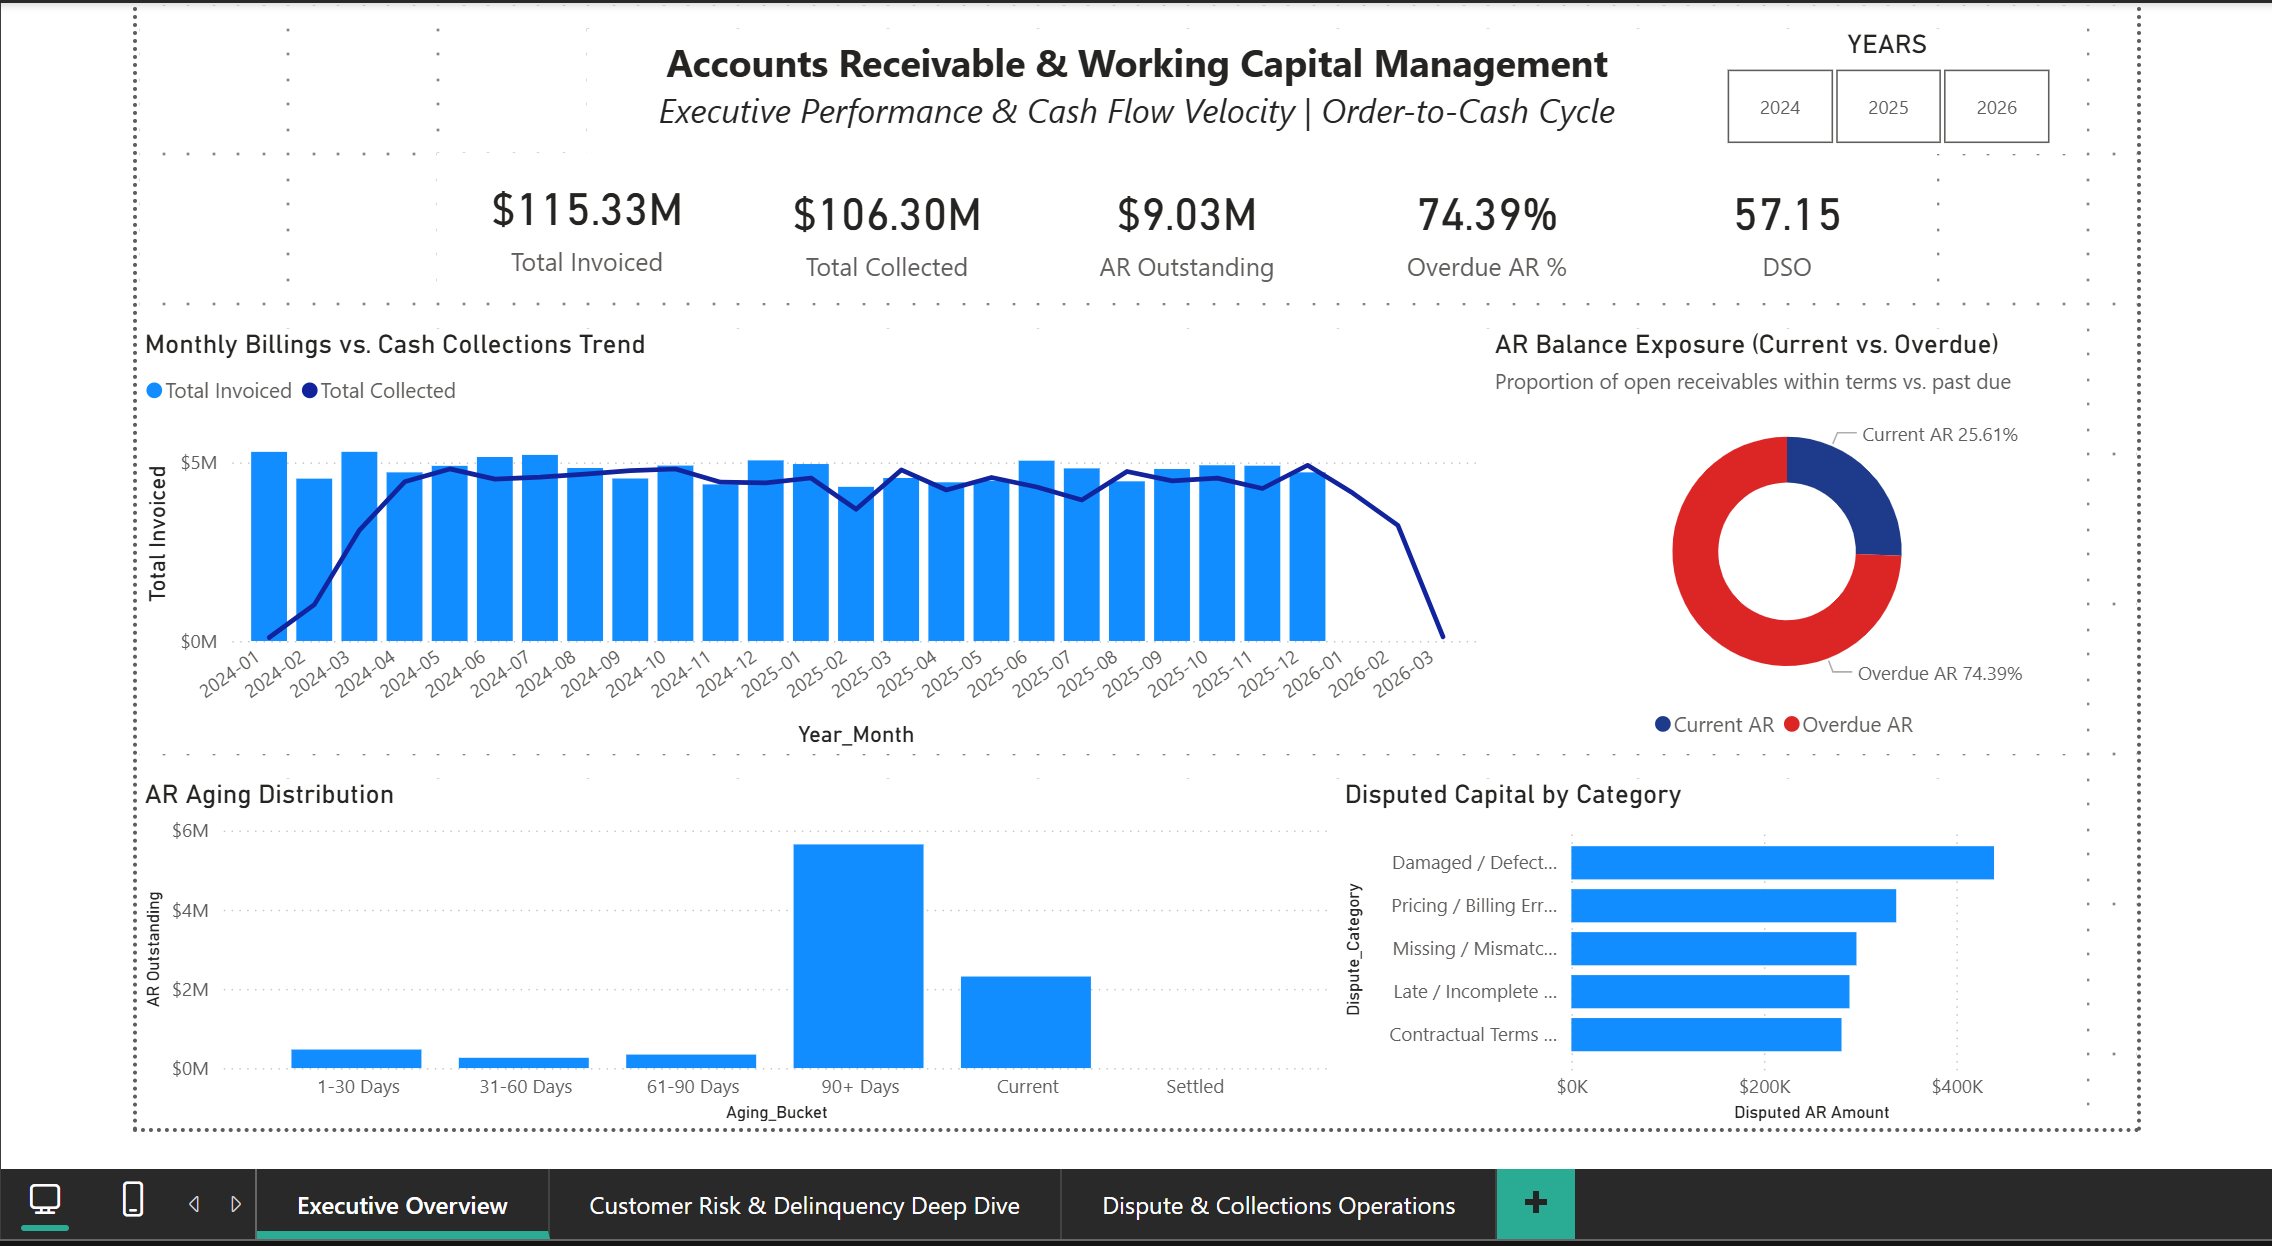

What the dashboard file says about the page in this screenshot:
{"tool":"powerbi","page":{"name":"Executive Overview","canvas":[1280,720],"ordinal":0},"visuals":[{"type":"textbox","box":[288,16,704,80],"z":0},{"type":"slicer","title":"YEARS","fields":{"Values":["Dim_Date.Year"]},"box":[992,16,256,80],"z":1000},{"type":"card","fields":{"Values":["_Measures.Total Invoiced"]},"box":[192,96,192,90],"z":2000},{"type":"card","fields":{"Values":["_Measures.Total Collected"]},"box":[384,96,192,96],"z":3000},{"type":"card","fields":{"Values":["_Measures.AR Outstanding"]},"box":[576,96,192,96],"z":4000},{"type":"card","fields":{"Values":["_Measures.Overdue AR %"]},"box":[768,96,192,96],"z":5000},{"type":"card","fields":{"Values":["_Measures.DSO"]},"box":[960,96,192,96],"z":6000},{"type":"lineClusteredColumnComboChart","title":"Monthly Billings vs. Cash Collections Trend","fields":{"Category":["Dim_Date.Year_Month"],"Y":["_Measures.Total Invoiced"],"Y2":["_Measures.Total Collected"]},"box":[0,208,864,272],"z":7000},{"type":"donutChart","title":"AR Balance Exposure (Current vs. Overdue)","fields":{"Y":["_Measures.Current AR","_Measures.Overdue AR"]},"box":[864,208,384,272],"z":7001},{"type":"clusteredColumnChart","title":"AR Aging Distribution","fields":{"Category":["Fact_AR_Invoices.Aging_Bucket"],"Y":["_Measures.AR Outstanding"]},"box":[0,496,768,224],"z":7002},{"type":"clusteredBarChart","title":"Disputed Capital by Category","fields":{"Category":["Dim_Dispute_Reason.Dispute_Category"],"Y":["_Measures.Disputed AR Amount"]},"box":[768,496,480,224],"z":7003}]}

Visuals, with their boxes on the page's 1280x720 design canvas (x1, y1, x2, y2). These are canvas units, not pixel positions in the 2272x1246 screenshot, which may show the page scaled, cropped or inside an application window:
textbox: x1=288 y1=16 x2=992 y2=96
"YEARS" slicer: x1=992 y1=16 x2=1248 y2=96
card - _Measures.Total Invoiced: x1=192 y1=96 x2=384 y2=186
card - _Measures.Total Collected: x1=384 y1=96 x2=576 y2=192
card - _Measures.AR Outstanding: x1=576 y1=96 x2=768 y2=192
card - _Measures.Overdue AR %: x1=768 y1=96 x2=960 y2=192
card - _Measures.DSO: x1=960 y1=96 x2=1152 y2=192
"Monthly Billings vs. Cash Collections Trend" lineClusteredColumnComboChart: x1=0 y1=208 x2=864 y2=480
"AR Balance Exposure (Current vs. Overdue)" donutChart: x1=864 y1=208 x2=1248 y2=480
"AR Aging Distribution" clusteredColumnChart: x1=0 y1=496 x2=768 y2=720
"Disputed Capital by Category" clusteredBarChart: x1=768 y1=496 x2=1248 y2=720
